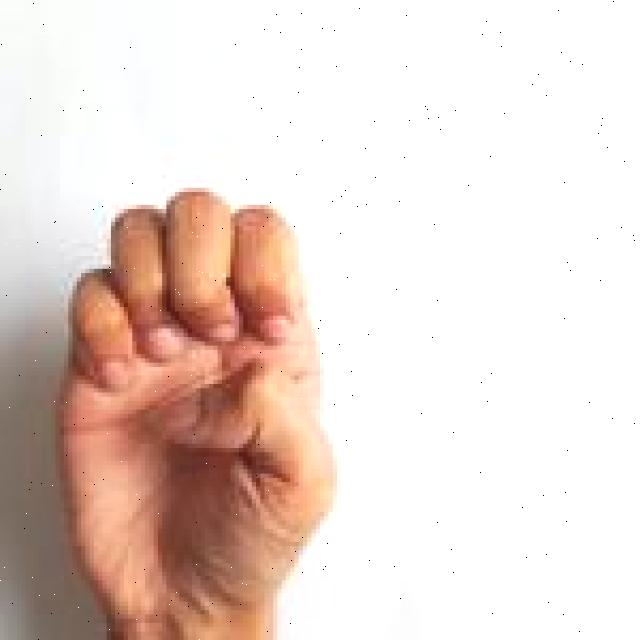E: (54, 187, 339, 640)
